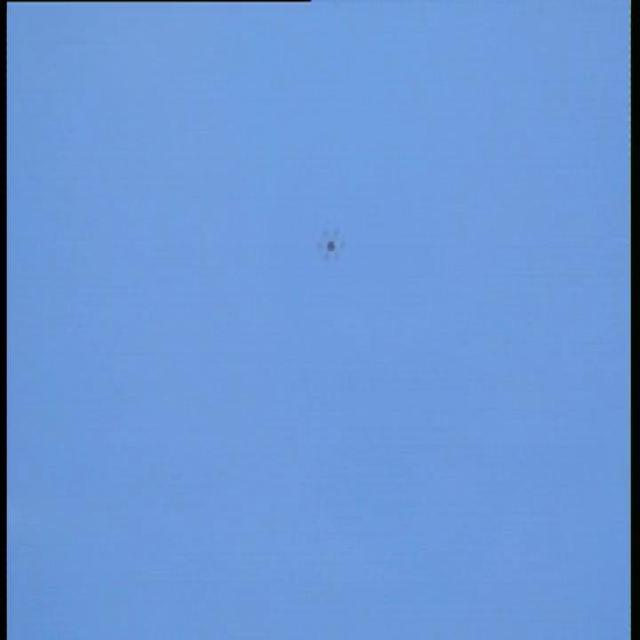drone: (312, 220, 351, 266)
